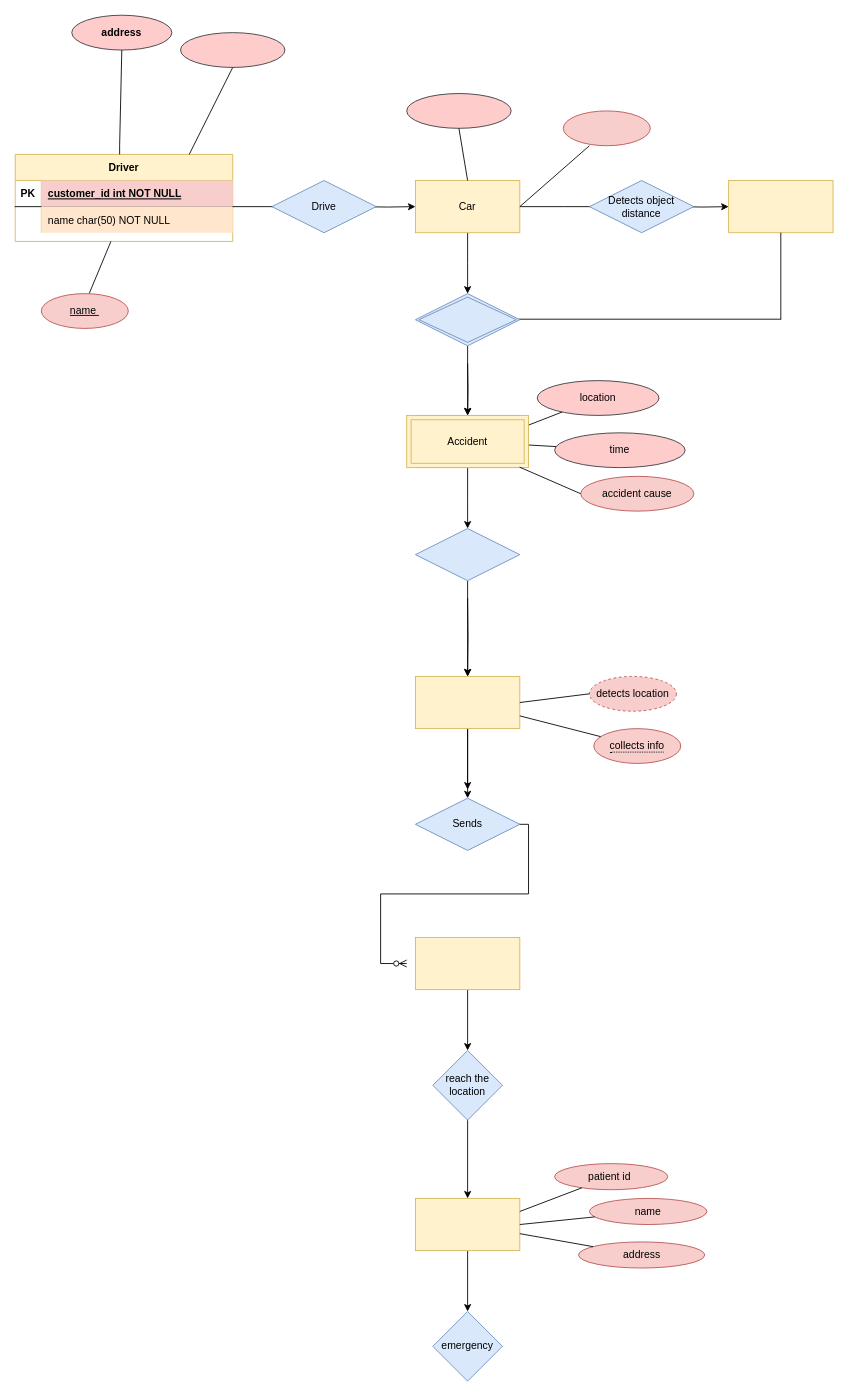
The diagram is 848 pixels wide and 1396 high, and some of its shapes have lost their labels. The centre of each missing label's shape, as x and y in pixels:
"Ambulance" belongs at pixel 467 963.
"car number" belongs at pixel 606 128.
"distance<=0" belongs at pixel 780 206.
"emergency call" belongs at pixel 467 554.
"Happens" belongs at pixel 467 319.
"model" belongs at pixel 458 110.
"Patient" belongs at pixel 467 1224.
"phone no." belongs at pixel 232 49.
"receptionist" belongs at pixel 467 702.
